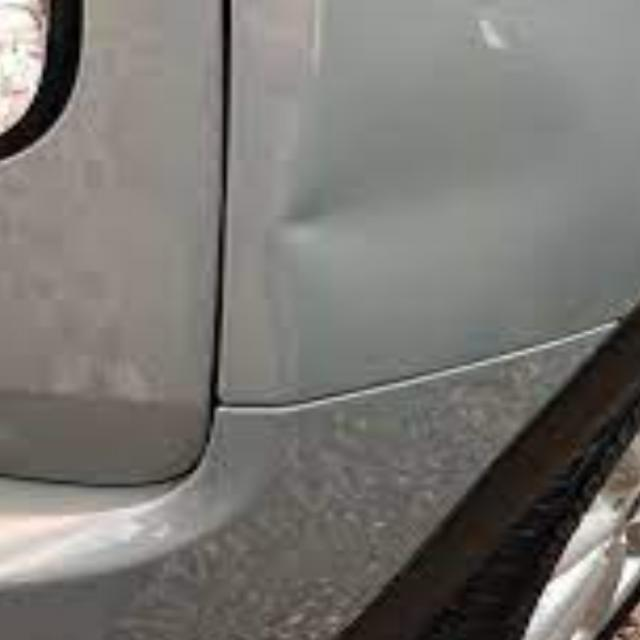dents: (250, 173, 356, 275)
